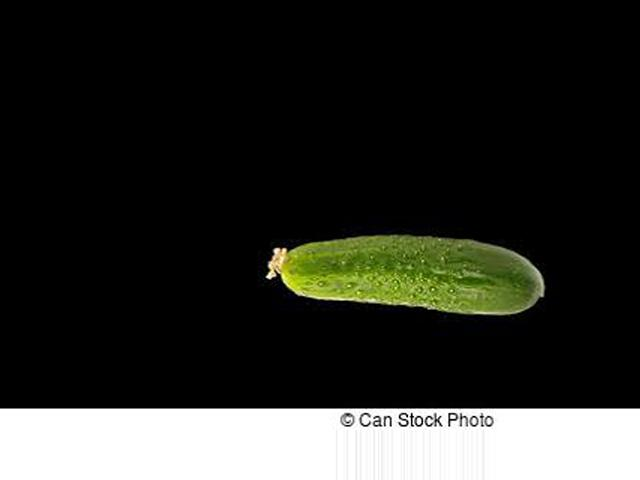cucumber: (266, 234, 544, 314)
